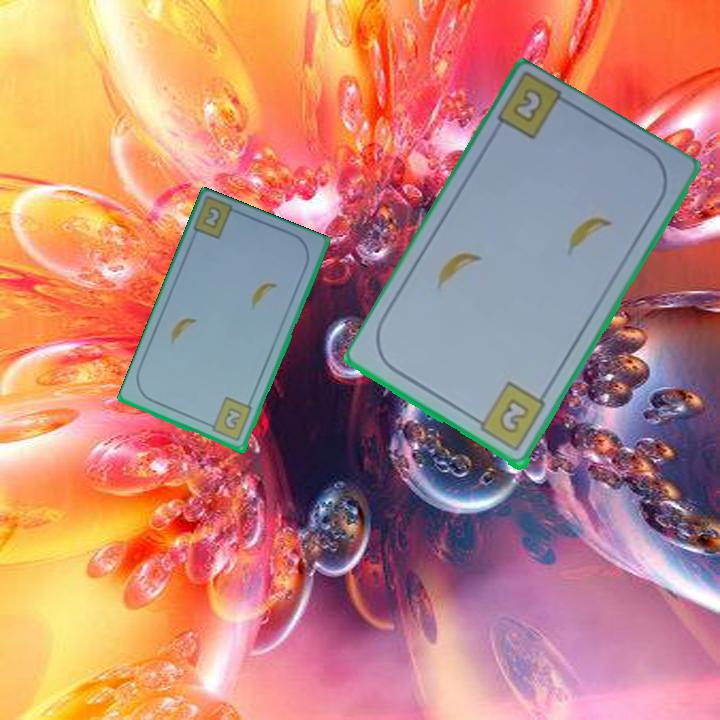2b: (470, 379, 548, 455), (204, 394, 255, 444), (512, 88, 543, 123), (199, 203, 224, 232)
